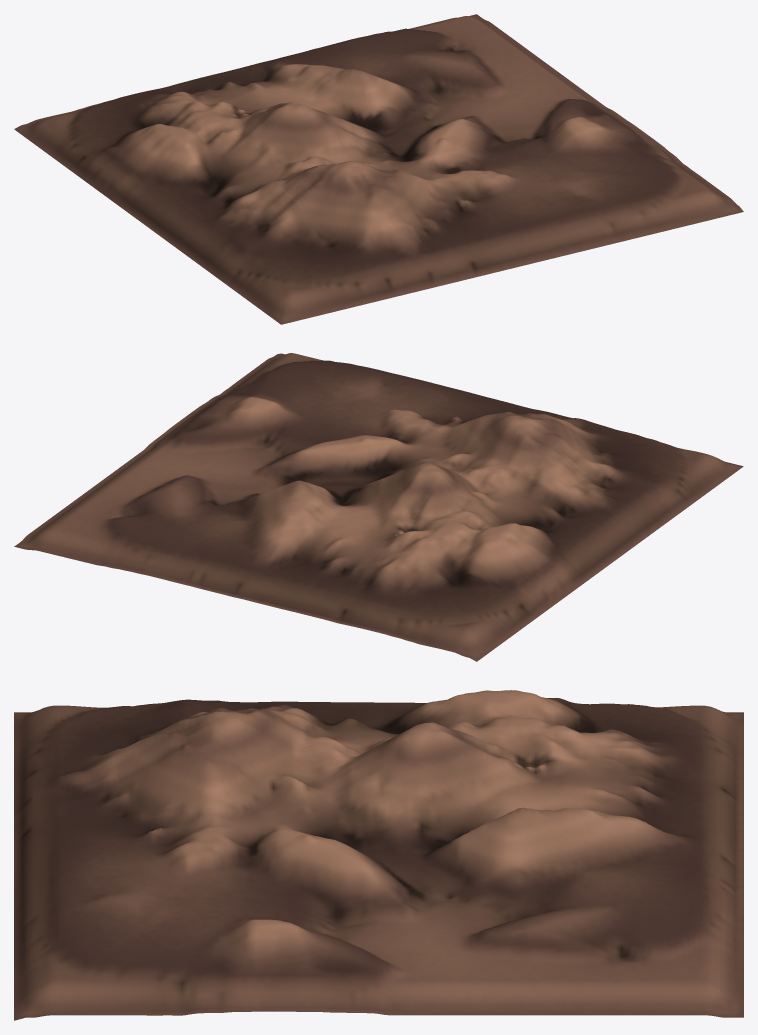
The picture shows the model from 3 angles, top to bottom: view 1: azimuth 30°, elevation 25°; view 2: azimuth 150°, elevation 25°; view 3: azimuth 270°, elevation 25°; orthographic projection. The views are drawn at different scales.
Visible parts, largest first — view 1: Landscape.021; view 2: Landscape.021; view 3: Landscape.021.
Part boxes in pixels (<box>): Landscape.021: <box>14,14,743,324</box>; Landscape.021: <box>14,353,743,661</box>; Landscape.021: <box>14,690,743,1020</box>.
Bounding box in the file's own units: 2 × 0.2832 × 2.
Materials: 1 (1 with a texture image).
